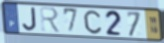2: (104, 9, 124, 38)
7: (62, 7, 80, 35), (127, 11, 142, 37)
C: (83, 9, 103, 35)
J: (21, 7, 38, 32)
R: (39, 6, 63, 35)
